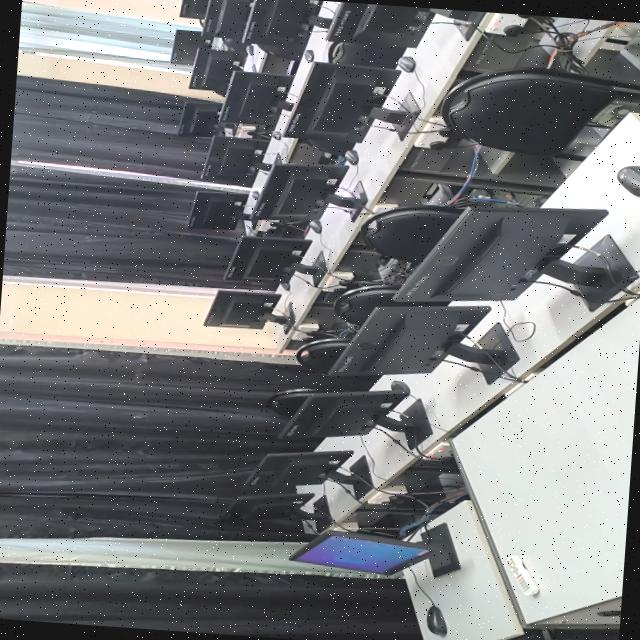Chair: (434, 61, 620, 157), (354, 198, 442, 260), (321, 282, 388, 325), (286, 334, 334, 370), (262, 382, 307, 418)
Monitor: (389, 194, 636, 314), (328, 295, 512, 387), (282, 64, 430, 146), (287, 512, 464, 578), (326, 0, 496, 52), (282, 381, 416, 446), (248, 157, 376, 225), (238, 444, 376, 494), (217, 232, 332, 287), (200, 286, 305, 334), (218, 66, 297, 128), (219, 486, 337, 526), (241, 0, 328, 49), (200, 134, 272, 182), (184, 189, 250, 233), (185, 48, 242, 93), (197, 0, 253, 38), (176, 99, 220, 137), (168, 29, 200, 64), (174, 0, 218, 20)
Mouse: (417, 602, 453, 638), (611, 157, 640, 198), (394, 52, 416, 74), (337, 147, 362, 165), (304, 218, 326, 234), (300, 47, 319, 64), (264, 128, 284, 140)
